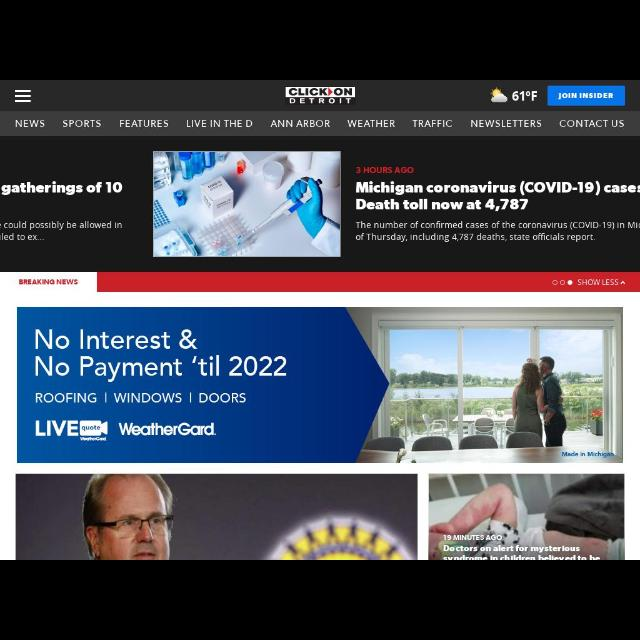icon: (14, 86, 32, 104), (622, 278, 628, 288)
image: (346, 310, 624, 464), (17, 474, 419, 560), (152, 151, 344, 257), (432, 472, 624, 558), (286, 84, 358, 108), (81, 419, 111, 445), (488, 87, 508, 103)
multitab: (3, 108, 639, 140)
pageindicator: (552, 278, 572, 288)
spinner: (572, 274, 634, 290)
text: (35, 357, 289, 377), (354, 180, 640, 196), (35, 328, 202, 350), (353, 219, 639, 231), (354, 231, 596, 245), (118, 416, 216, 442), (353, 198, 533, 212), (2, 182, 122, 194), (3, 220, 123, 232), (560, 114, 630, 130), (468, 116, 542, 130), (32, 418, 78, 440), (183, 115, 254, 128), (269, 116, 333, 130), (112, 391, 186, 403), (352, 166, 418, 178), (118, 116, 168, 130), (198, 392, 248, 406), (31, 391, 99, 401), (342, 116, 398, 128), (58, 116, 104, 130), (552, 89, 616, 99), (19, 277, 79, 287), (410, 116, 452, 130), (1, 232, 47, 244), (578, 276, 620, 286), (11, 118, 45, 130), (513, 90, 537, 100)
textbutton: (550, 86, 628, 104)
toolbar: (1, 82, 640, 108)
